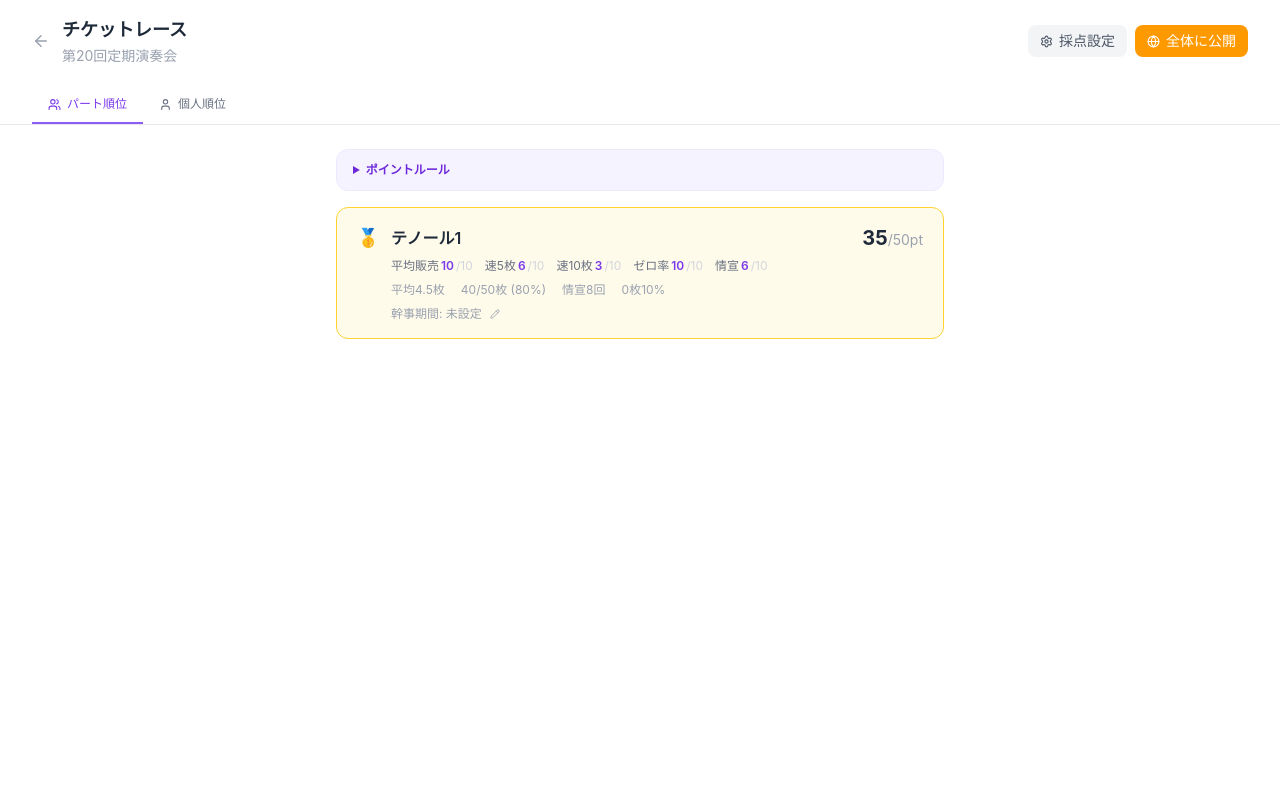
Scenario: RacePage（公開操作） › 「全体に公開」クリックでpublishRaceが呼ばれ公開状態になる
Click the button "全体に公開" at coordinates (1192, 41), box x1=1135 y1=25 x2=1248 y2=57
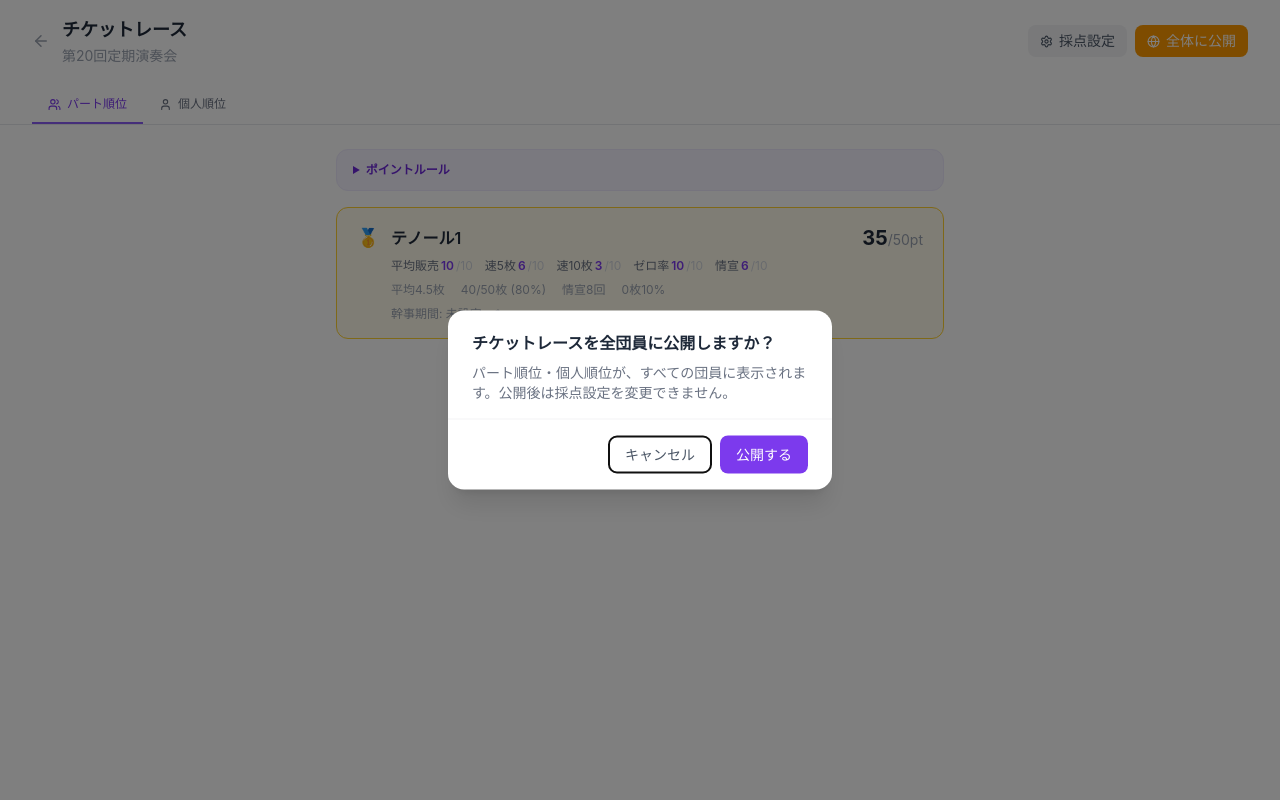
Click the button "公開する" at coordinates (764, 454), box x1=720 y1=436 x2=808 y2=474
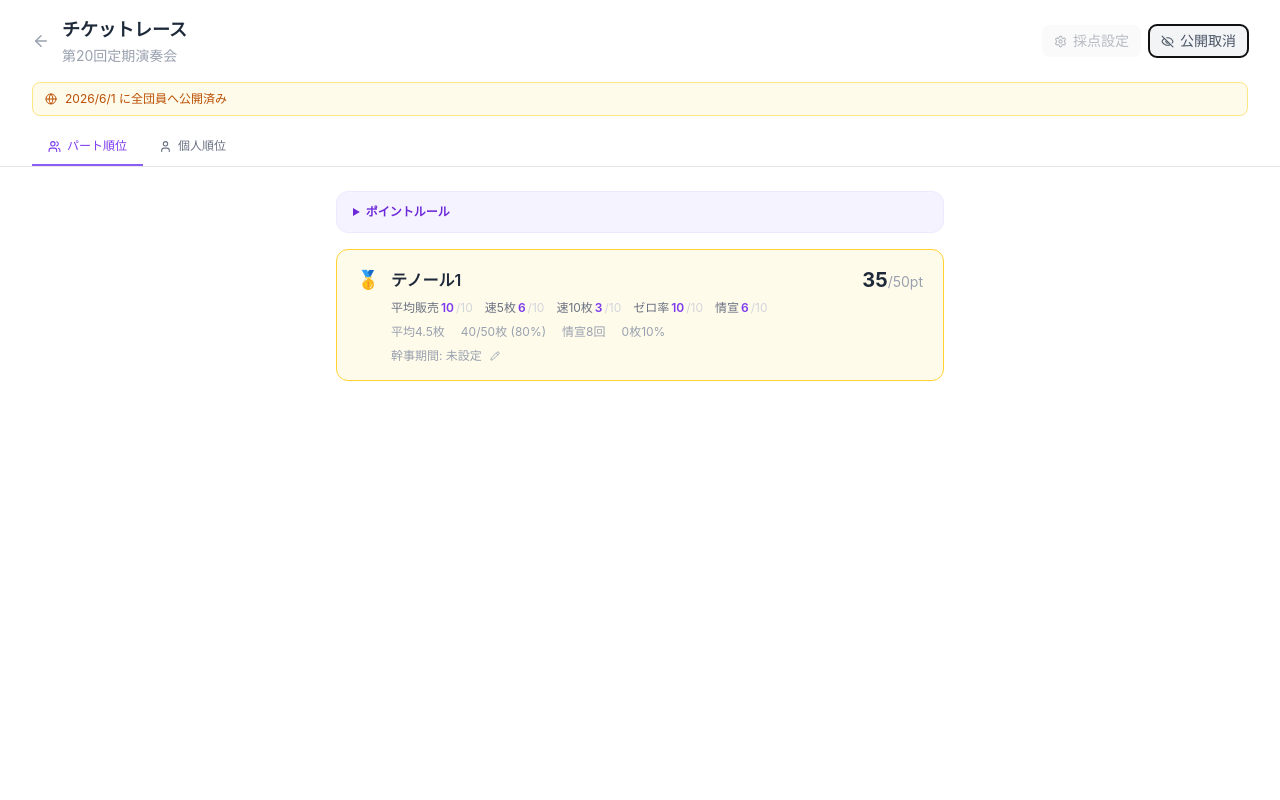
Expected: the button "公開取消" is shown, x1=1149 y1=25 x2=1248 y2=57
Expected: the dialog is gone
